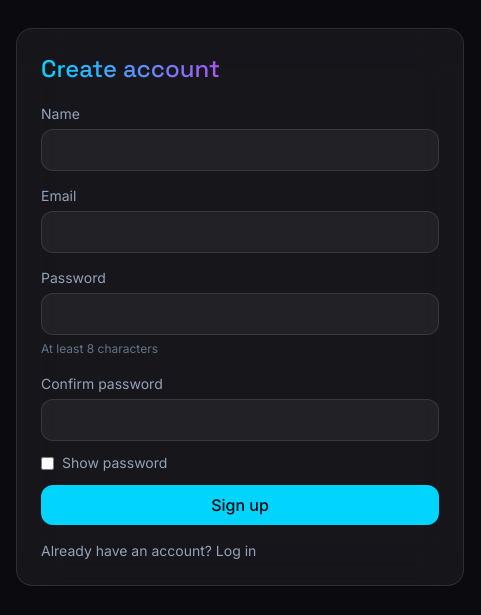
it: Register page › shows a friendly message when the email is already registered
Check: the text "Create account" is shown, box [41,53,220,84]
Type "Ada Lovelace" into the field labelled "Name".
click(240, 150); type("Ada Lovelace")  # box [41,129,439,171]
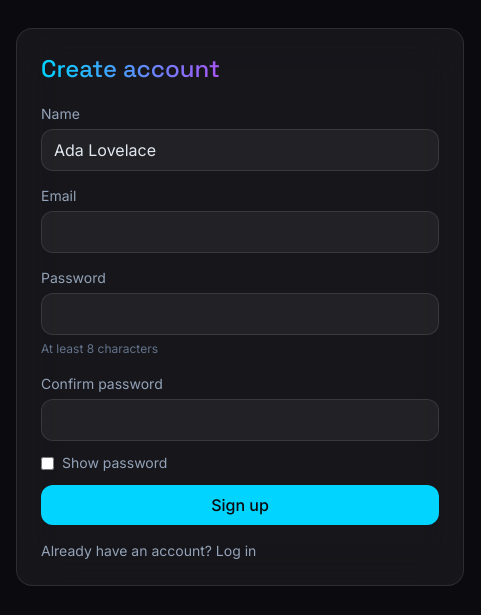
Type "ada@x.io" into the field labelled "Email".
click(240, 232); type("ada@x.io")  # box [41,211,439,253]
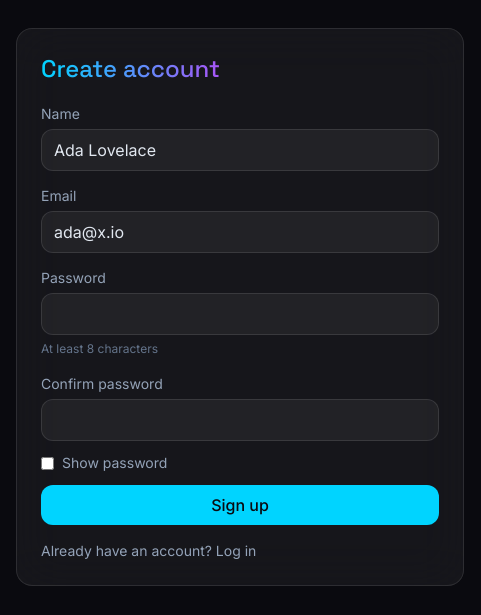
Type "mySecret123" into the password field labelled "Password".
click(240, 314); type("mySecret123")  # box [41,293,439,335]
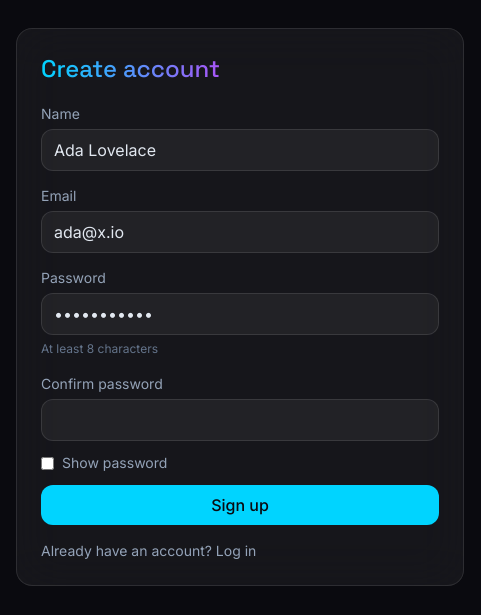
Type "mySecret123" into the password field labelled "Confirm password".
click(240, 420); type("mySecret123")  # box [41,399,439,441]
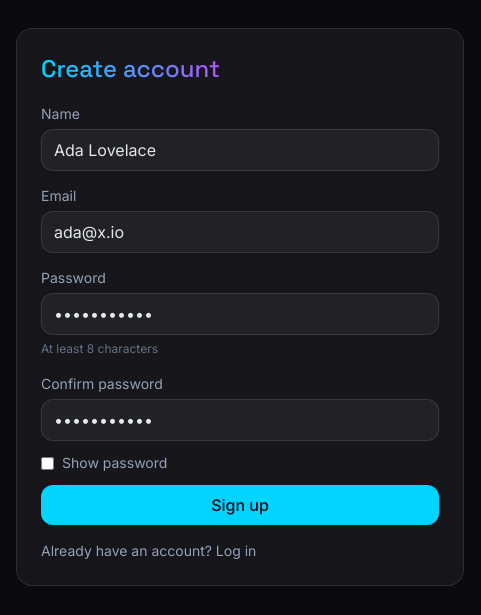
Click the button "Sign up".
click(240, 505)  # box [41,485,439,525]
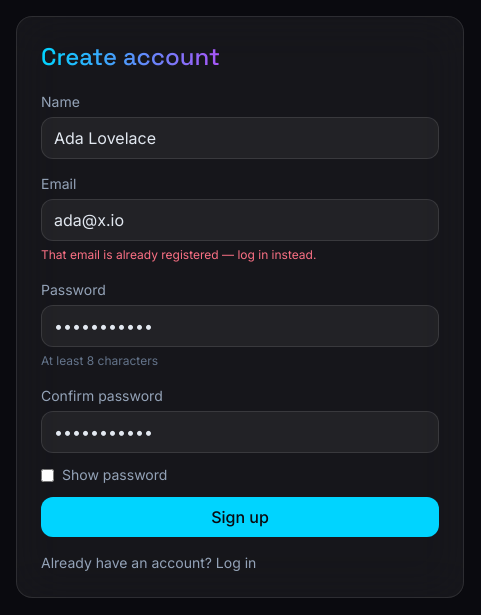
Check: the message shows "already registered", box [41,247,316,262]
